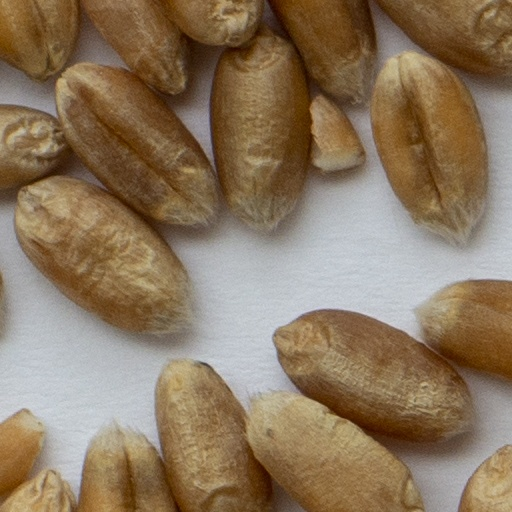Wheat-grain-damaged-poly: (306, 91, 367, 175), (0, 408, 45, 500)
Wheat-grain-poly: (276, 308, 476, 442), (248, 394, 428, 511), (151, 358, 272, 511), (78, 418, 180, 511), (0, 467, 76, 511)
